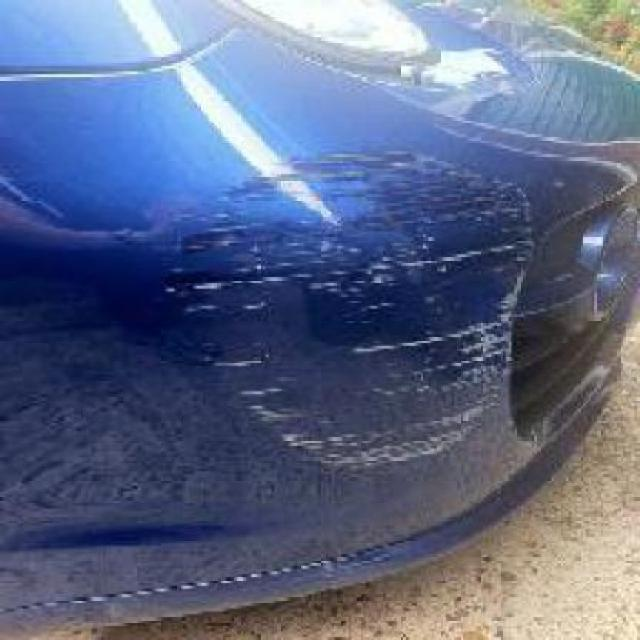dent-or-scratch: (190, 151, 539, 477)
